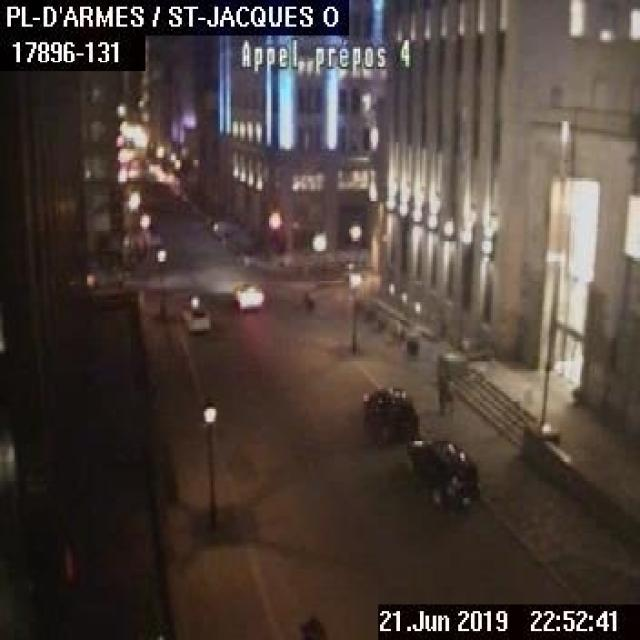pedestrian: (444, 373, 453, 409)
vehicle: (405, 437, 480, 507), (361, 386, 418, 441), (180, 291, 210, 332), (231, 282, 264, 309)
